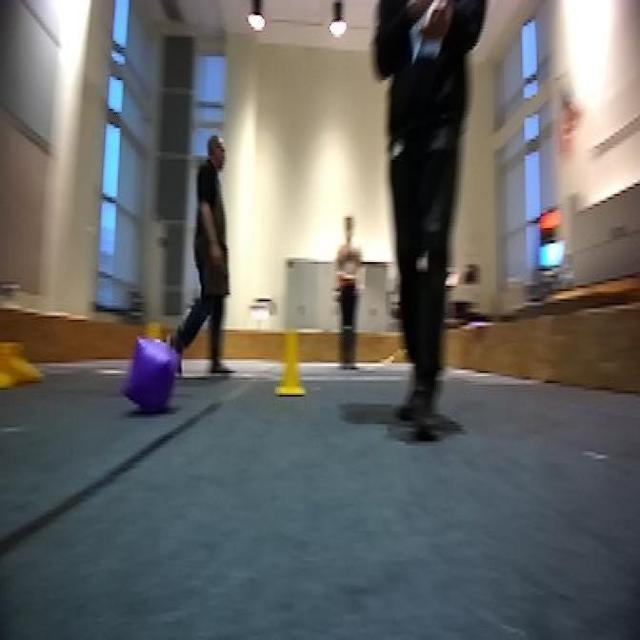frc_cone: (278, 328, 305, 398), (0, 338, 34, 393)
frc_cube: (125, 335, 176, 424)
